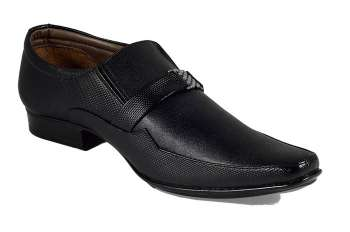Footwear: (13, 21, 324, 199)
